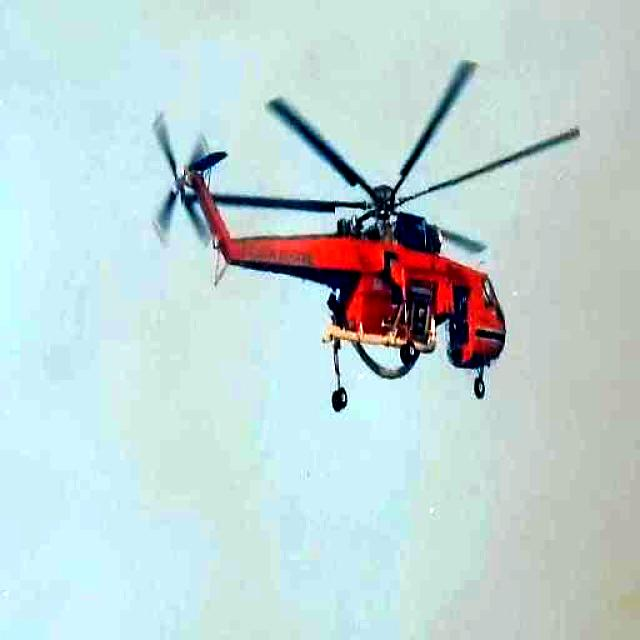drone: (144, 52, 582, 419)
